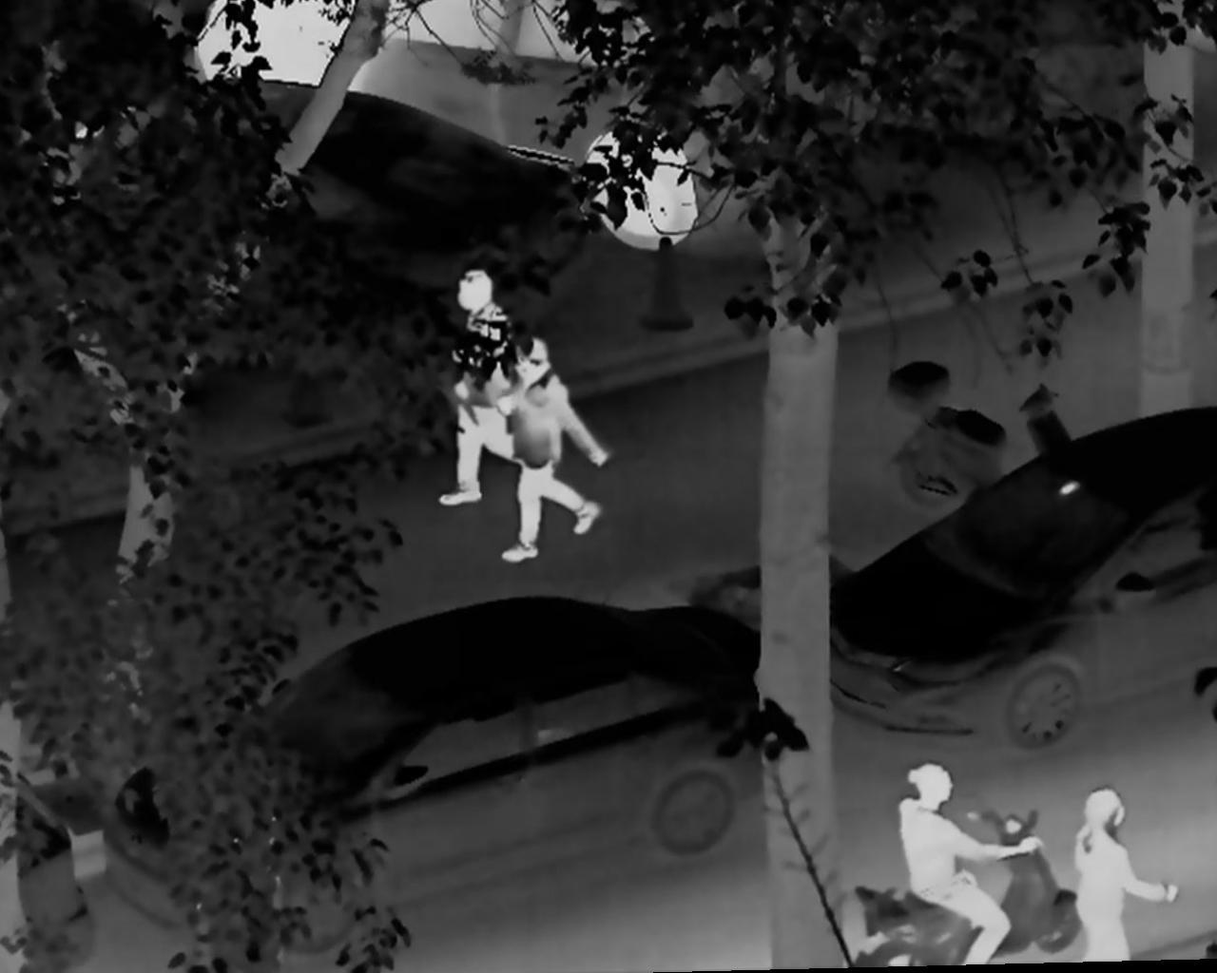person: (894, 756, 1049, 973), (494, 331, 611, 569), (1064, 773, 1186, 973), (431, 267, 530, 511)
